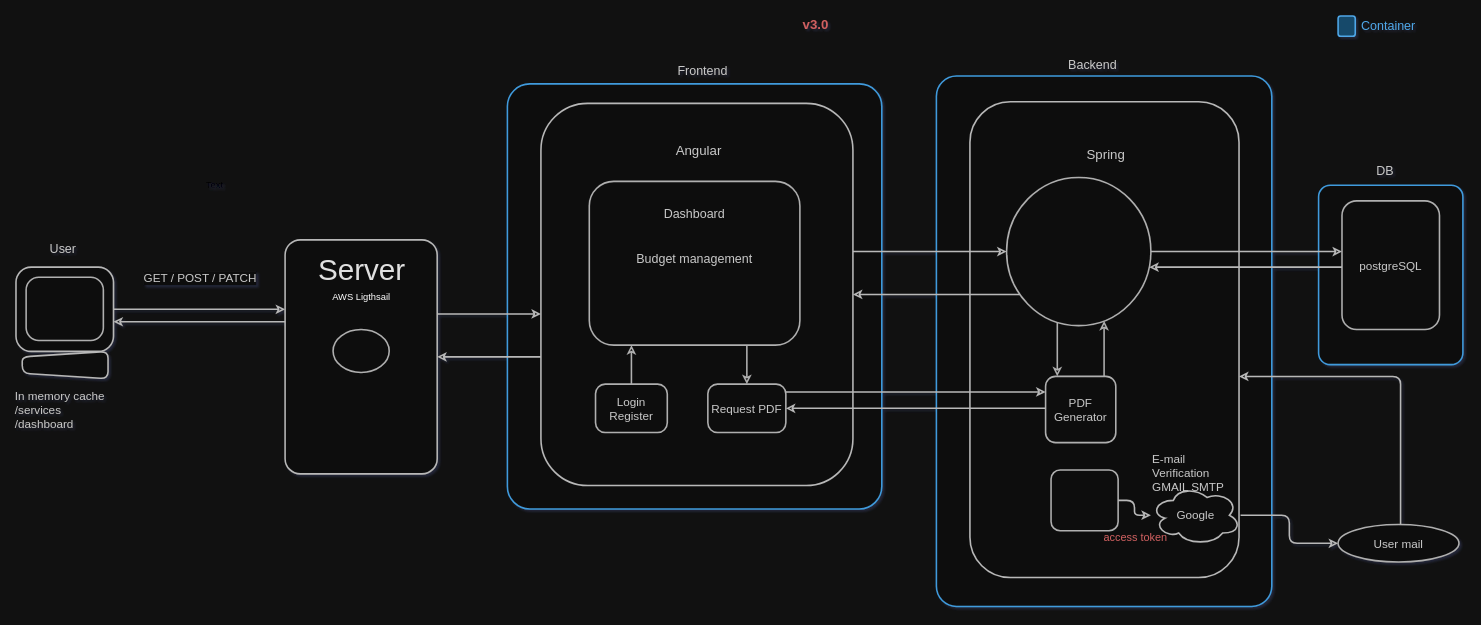
This 1481x625 diagram has some shape labels left out. Each missing label, with the centre of its shape:
Gmail OAuth2.0: pixel 1084 500
HTTPS Caddy: pixel 361 350
Web MVC Mail Validation Actuator Security + JWT Flyway JDBC Driver Data JPA: pixel 1078 251
